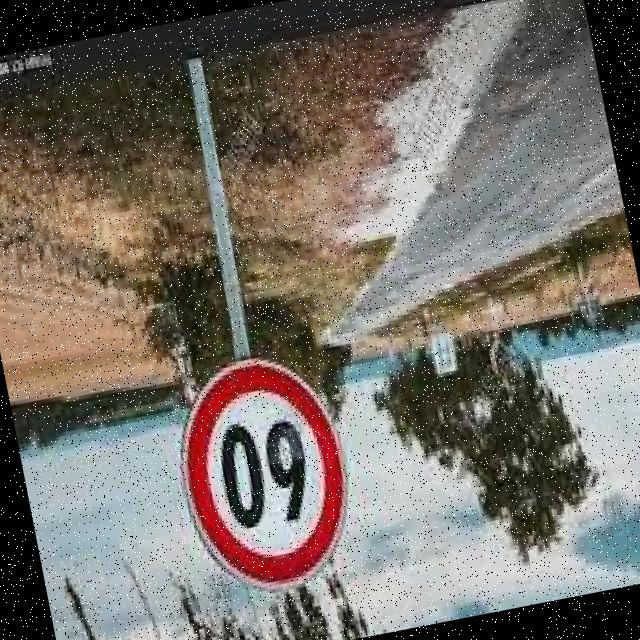speed_limit_60: (159, 336, 372, 606)
